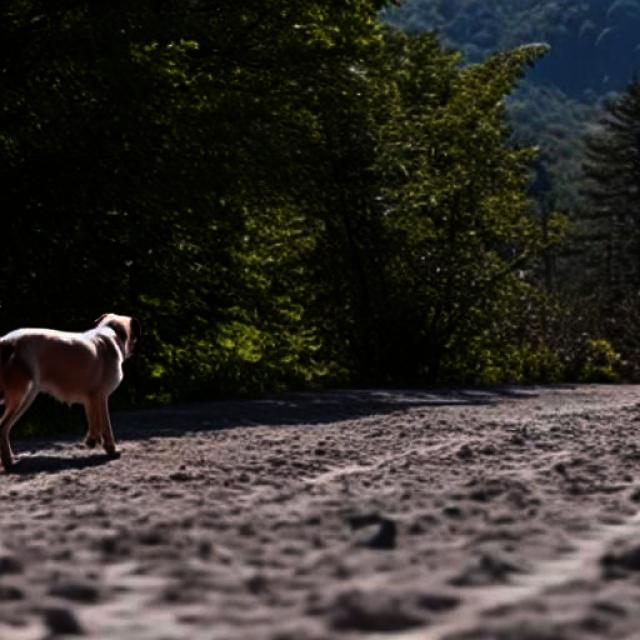Dog: (0, 313, 142, 471)
